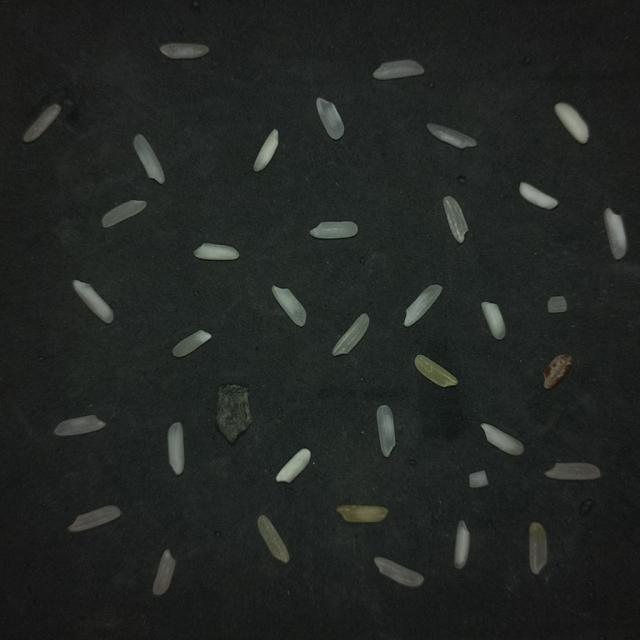broken: (404, 285, 442, 326), (272, 286, 306, 326), (444, 196, 468, 243), (604, 209, 626, 259), (172, 330, 211, 357), (310, 222, 358, 239), (469, 470, 488, 488), (548, 296, 567, 313)
chalky: (73, 280, 113, 323), (555, 103, 589, 144), (481, 424, 523, 455), (276, 449, 310, 483), (519, 182, 558, 209), (254, 129, 278, 171), (482, 302, 505, 339), (454, 520, 470, 569), (194, 244, 239, 260)
discolored: (415, 355, 458, 387), (337, 505, 388, 523)
foreign: (216, 385, 252, 443)
red: (544, 355, 573, 388)
whole: (332, 314, 369, 356), (134, 134, 164, 184), (258, 515, 289, 563), (23, 104, 61, 143), (374, 557, 423, 587), (69, 505, 121, 532), (102, 200, 146, 228), (427, 124, 476, 149), (317, 98, 344, 139), (55, 415, 106, 436), (153, 549, 175, 595), (373, 60, 424, 79), (377, 405, 395, 457), (529, 522, 547, 574), (545, 463, 600, 480), (168, 422, 184, 474), (160, 43, 209, 59)
